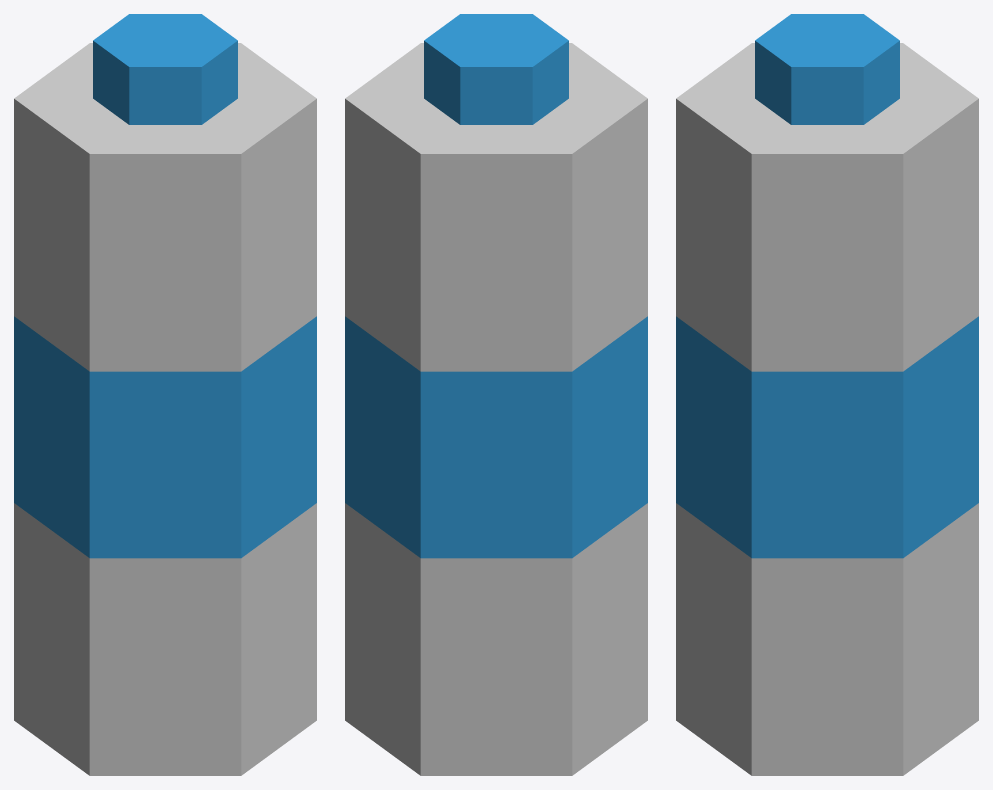
Rendered from waterBottle.fbx.
3 renders of one model, left to right at view 1: azimuth 30°, elevation 25°; view 2: azimuth 150°, elevation 25°; view 3: azimuth 270°, elevation 25°, orthographic.
Visible parts, largest first — view 1: Cube; view 2: Cube; view 3: Cube.
Boxes of the visible parts, x1=… form: Cube: x1=14, y1=14, x2=316, y2=775; Cube: x1=345, y1=14, x2=647, y2=775; Cube: x1=676, y1=14, x2=978, y2=775.
Size of the model in its own units: 47.23 by 135 by 54.54.
